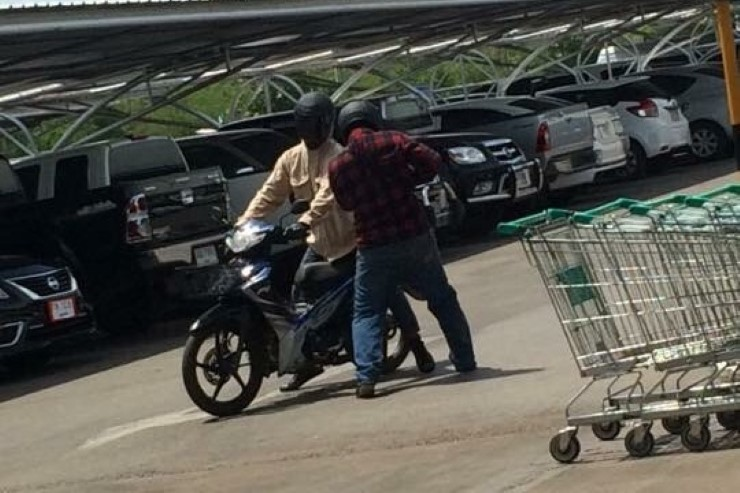Helmet: (272, 87, 338, 147), (334, 99, 387, 141)
motorcycle: (132, 208, 435, 404)
